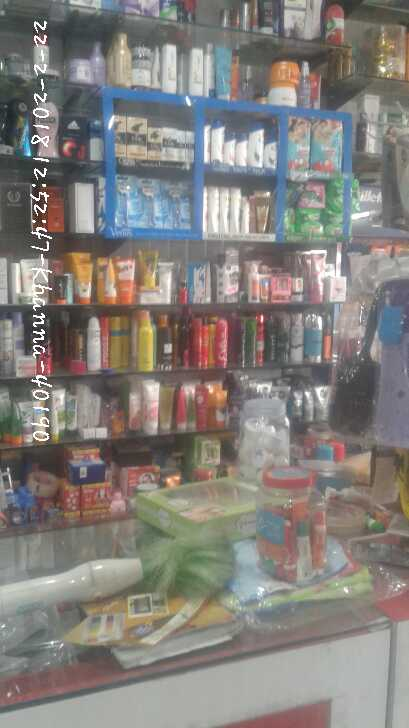venus: (164, 184, 191, 228), (140, 179, 164, 228), (119, 179, 140, 224)
